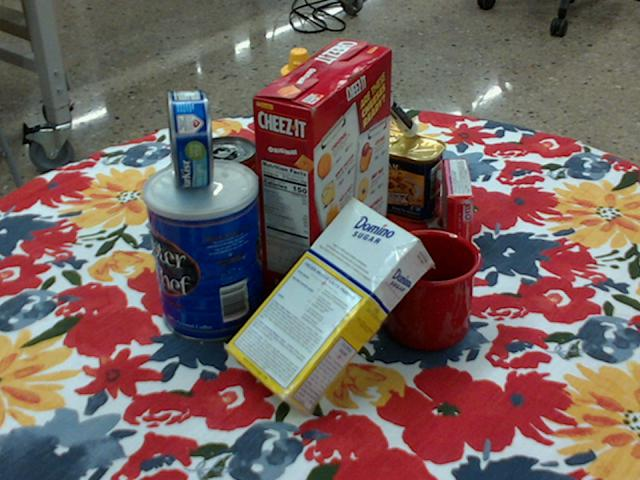cracker_box: (251, 40, 392, 311)
gelatin_box: (442, 157, 472, 255)
large_marker: (367, 81, 417, 135)
master_chef_can: (144, 160, 264, 344)
mug: (352, 228, 480, 350)
mustard_bottle: (261, 48, 346, 222)
potted_meat_can: (353, 125, 445, 222)
sugar_box: (225, 198, 433, 420)
tomato_soup_can: (193, 135, 262, 247)
tuna_fish_can: (165, 90, 213, 188)
